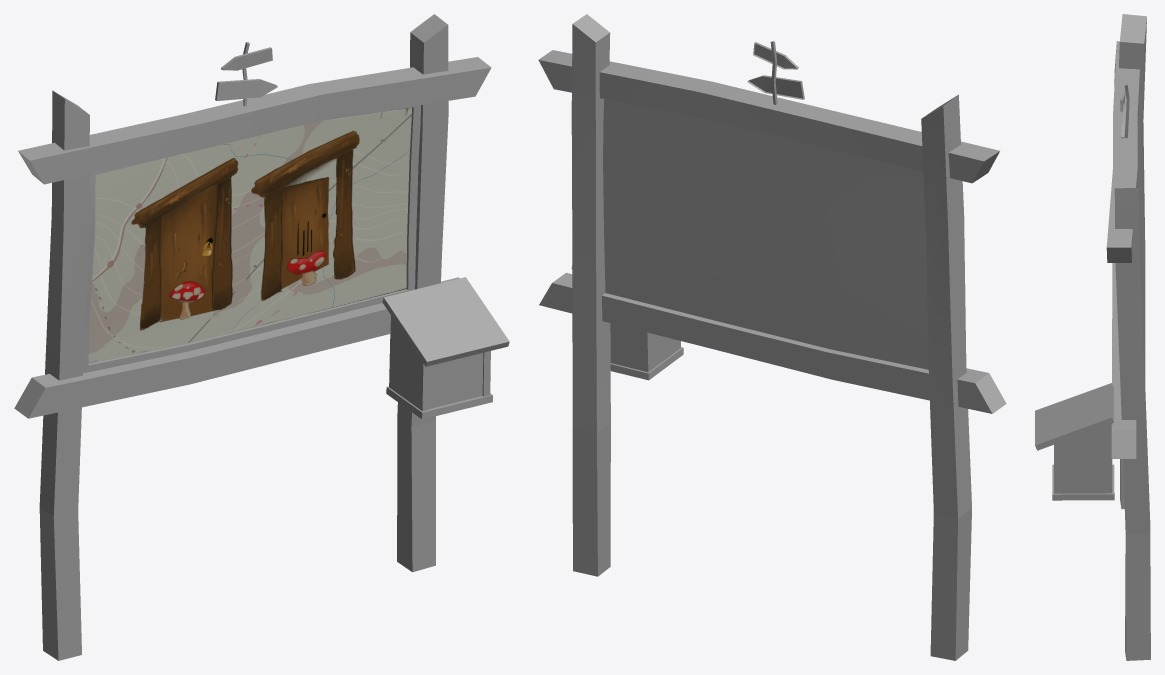
File: Post_small_open_door.fbx
3 views of the same model, side by side, from view 1: azimuth 30°, elevation 25°; view 2: azimuth 150°, elevation 25°; view 3: azimuth 270°, elevation 25° (orthographic). The views are drawn at different scales.
Parts seen in each view (by area): view 1: Post_Small; view 2: Post_Small; view 3: Post_Small.
Part boxes in pixels (x1,y1,x2,y2): Post_Small: [14, 14, 509, 660]; Post_Small: [538, 14, 1006, 660]; Post_Small: [1035, 14, 1150, 660].
Bounding box in the file's own units: 4.77 × 5.63 × 1.19.
2 materials, 1 textured.
